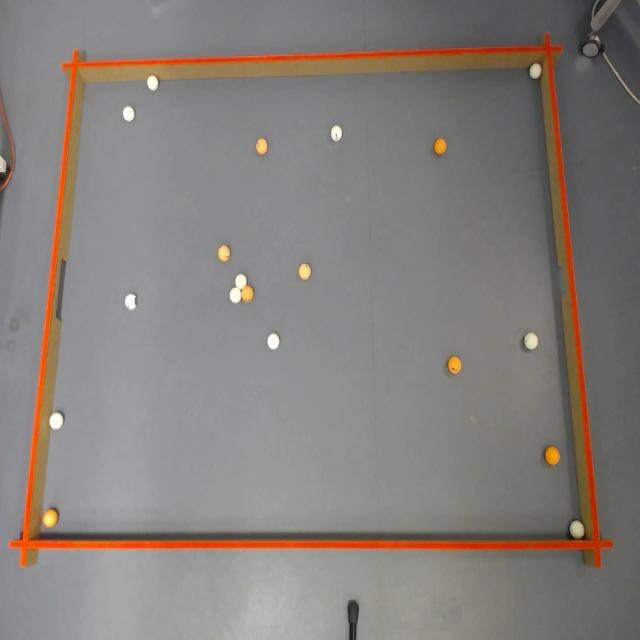orange_ball: (544, 446, 560, 466), (42, 508, 58, 528), (448, 356, 461, 374), (255, 138, 268, 155), (298, 263, 311, 280), (218, 244, 230, 262), (434, 138, 446, 155), (242, 285, 254, 302)
white_ball: (569, 520, 585, 540), (49, 412, 64, 431), (524, 332, 538, 350), (529, 61, 542, 79), (267, 334, 280, 351), (148, 74, 160, 92), (123, 105, 135, 122), (125, 293, 137, 310), (230, 287, 242, 303), (235, 273, 247, 288), (331, 126, 341, 140)
